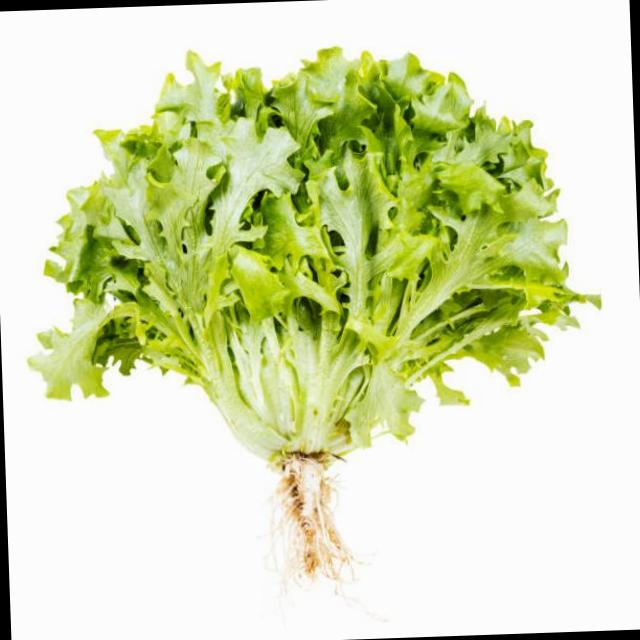Lettuce-Ready-to-Harvest: (30, 48, 598, 573)
